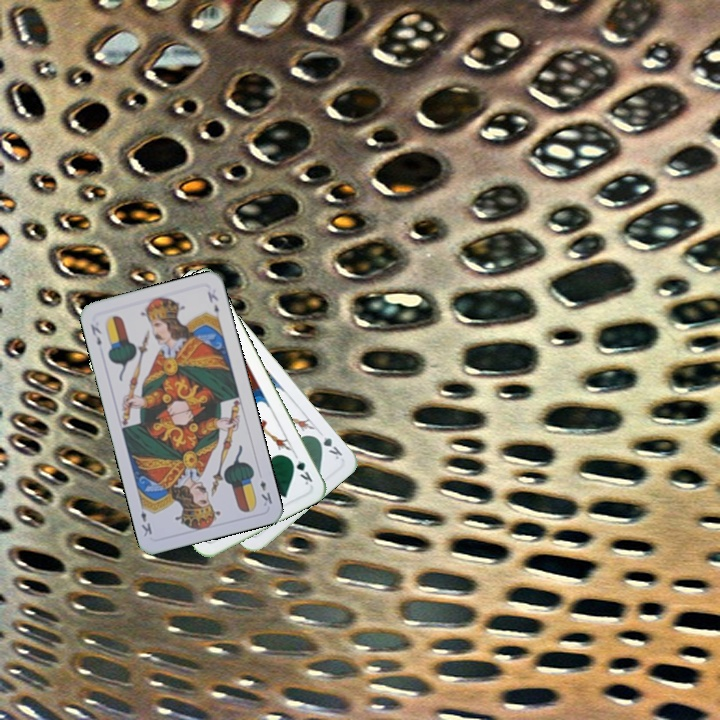EK: (256, 476, 275, 509), (86, 320, 104, 348)
GK: (311, 431, 345, 463), (285, 452, 315, 488)
